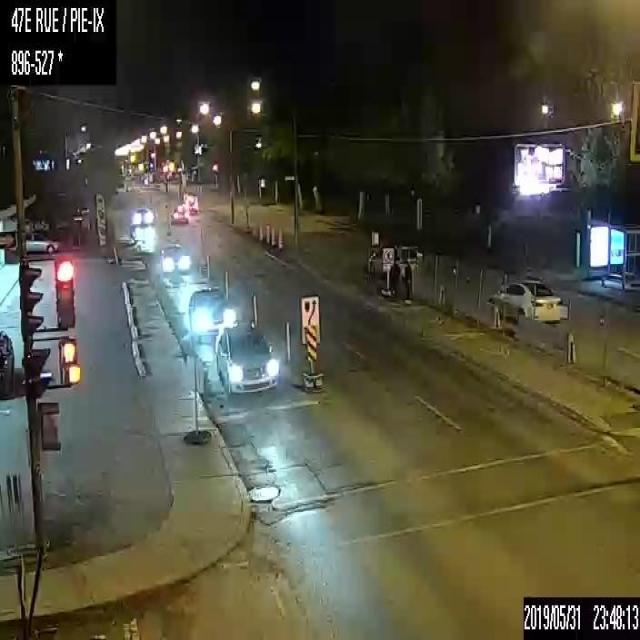construction: (285, 319, 290, 364), (252, 294, 257, 329), (224, 268, 228, 291), (270, 225, 274, 244), (265, 224, 269, 243), (278, 231, 282, 249), (258, 223, 262, 240)
pedestrian: (404, 257, 412, 303), (389, 257, 398, 295)
vehicle: (215, 326, 279, 394), (486, 276, 562, 324), (188, 288, 238, 342), (364, 239, 424, 281), (0, 329, 14, 395), (25, 226, 59, 253), (161, 243, 191, 273), (131, 204, 153, 224), (180, 190, 198, 212), (170, 204, 187, 224)
